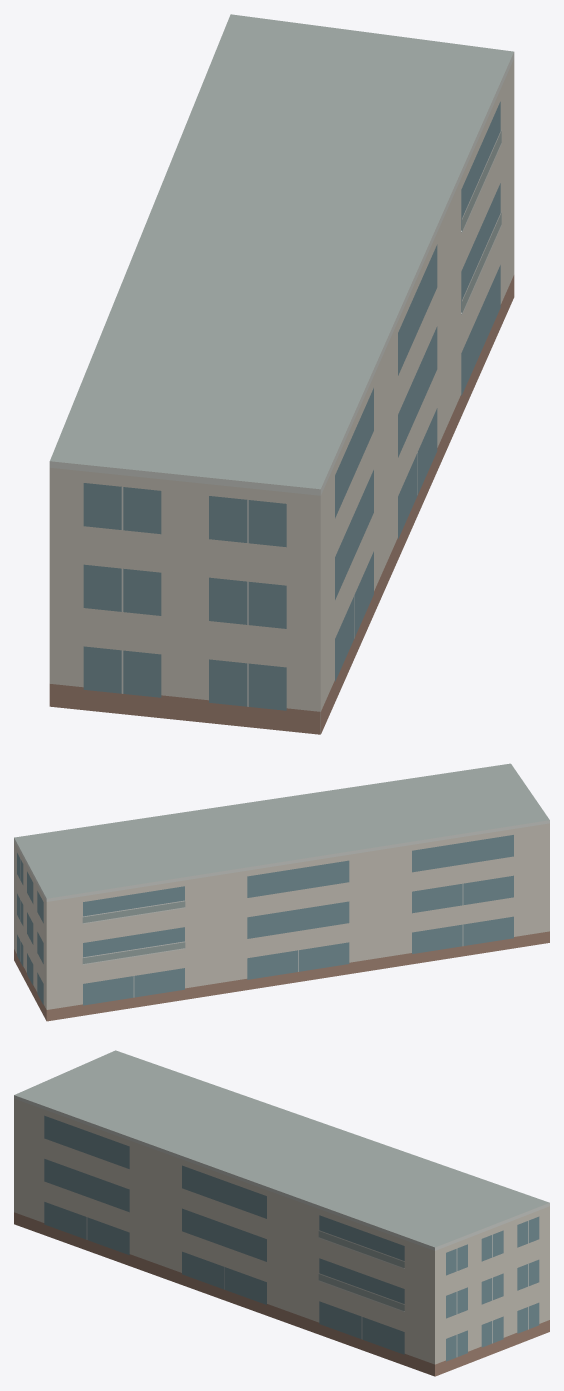
File: survey-upis-32756116.glb
The picture shows the model from 3 angles, top to bottom: view 1: azimuth 30°, elevation 25°; view 2: azimuth 150°, elevation 25°; view 3: azimuth 270°, elevation 25°; orthographic projection. The views are drawn at different scales.
Visible parts, largest first — view 1: survey-upis-32756116.tmp; view 2: survey-upis-32756116.tmp; view 3: survey-upis-32756116.tmp.
Boxes of the visible parts, x1,y1,x2,y2 form: survey-upis-32756116.tmp: (49, 14, 514, 734); survey-upis-32756116.tmp: (14, 763, 549, 1021); survey-upis-32756116.tmp: (14, 1050, 549, 1376).
Bounding box in the file's own units: 29.98 × 9.15 × 34.43.
